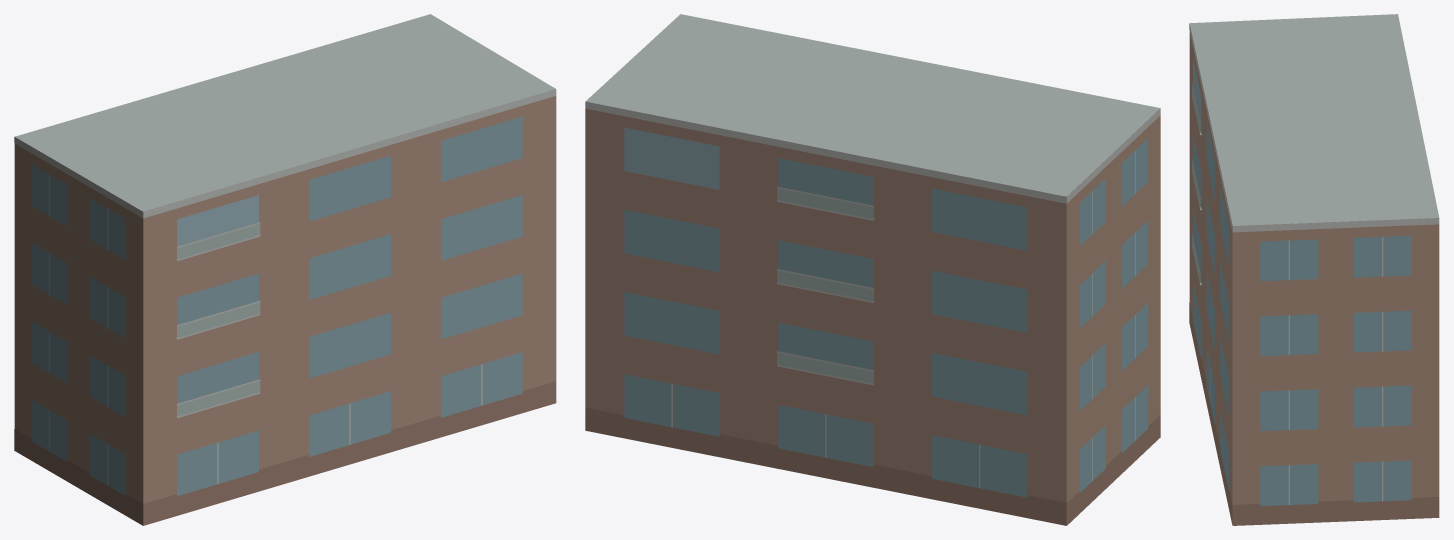
Rendered from survey-upis-32756438.glb.
3 renders of one model, left to right at view 1: azimuth 30°, elevation 25°; view 2: azimuth 150°, elevation 25°; view 3: azimuth 270°, elevation 25°, orthographic. The views are drawn at different scales.
Visible parts, largest first — view 1: survey-upis-32756438.tmp; view 2: survey-upis-32756438.tmp; view 3: survey-upis-32756438.tmp.
Part boxes in pixels (x1=…): survey-upis-32756438.tmp: x1=14, y1=14, x2=556, y2=525; survey-upis-32756438.tmp: x1=585, y1=14, x2=1160, y2=525; survey-upis-32756438.tmp: x1=1189, y1=14, x2=1439, y2=525.
Bounding box in the file's own units: 17.45 × 11.5 × 8.7.
